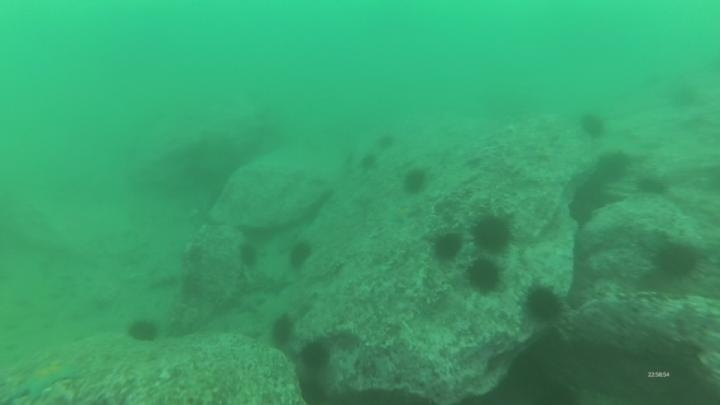echinus: (651, 239, 701, 281), (470, 212, 515, 255), (521, 282, 565, 325), (464, 256, 504, 295), (566, 185, 602, 227), (594, 150, 632, 184), (430, 229, 465, 263), (267, 312, 298, 350), (298, 338, 332, 372), (125, 317, 161, 345), (285, 238, 315, 271), (400, 166, 430, 197), (578, 110, 608, 140), (297, 377, 329, 405), (635, 172, 669, 198), (236, 241, 261, 269), (183, 241, 208, 269), (357, 151, 380, 173), (375, 131, 397, 151)
starfish: (7, 355, 82, 403), (385, 200, 419, 227), (233, 290, 268, 316)
